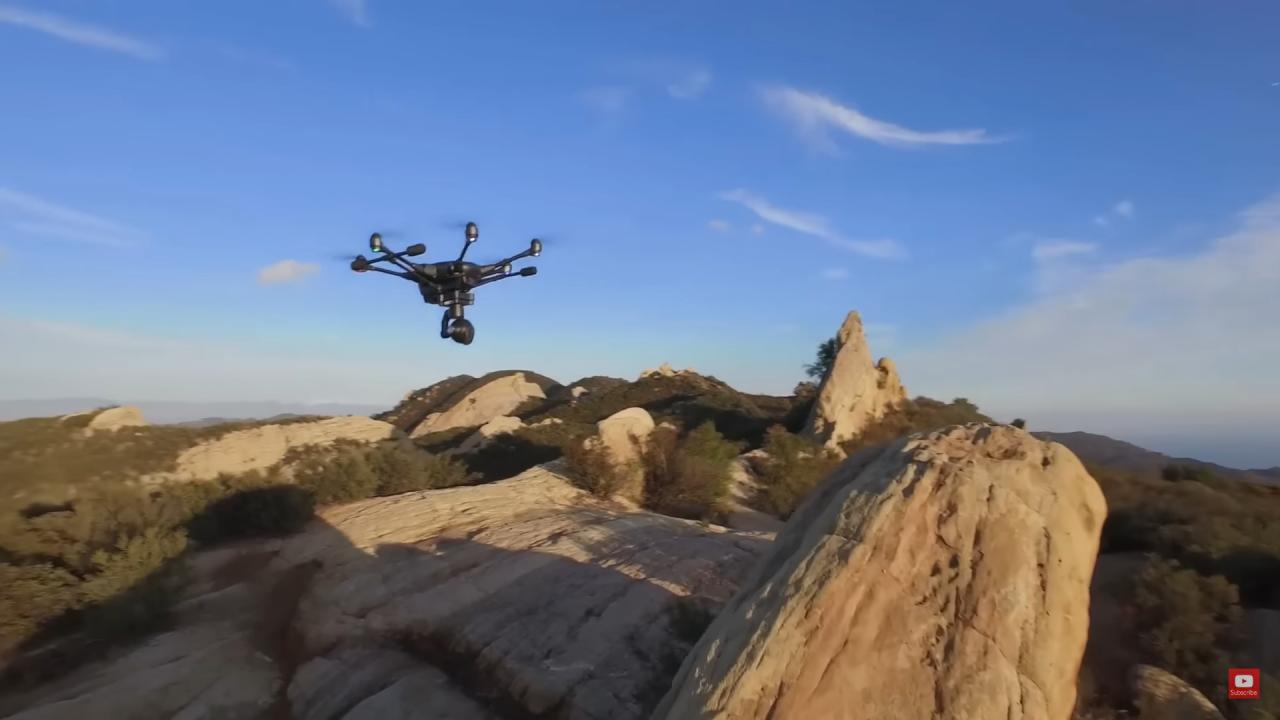Drone: (322, 210, 566, 355)
